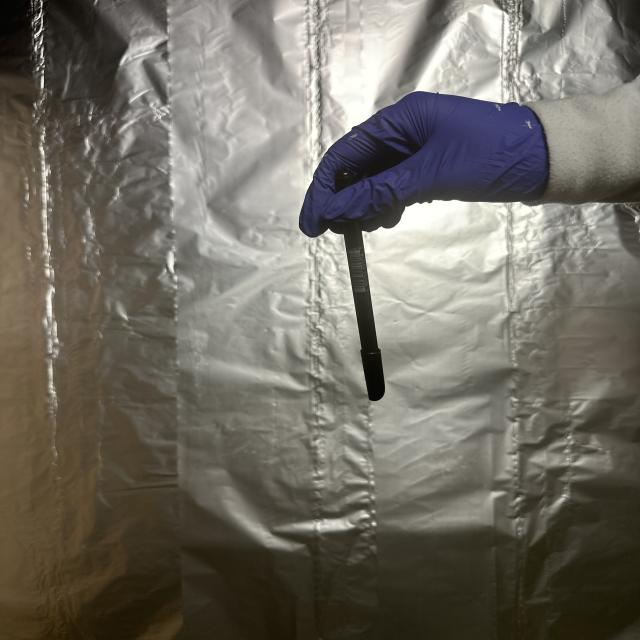gloves_contaminated: (299, 92, 549, 237)
